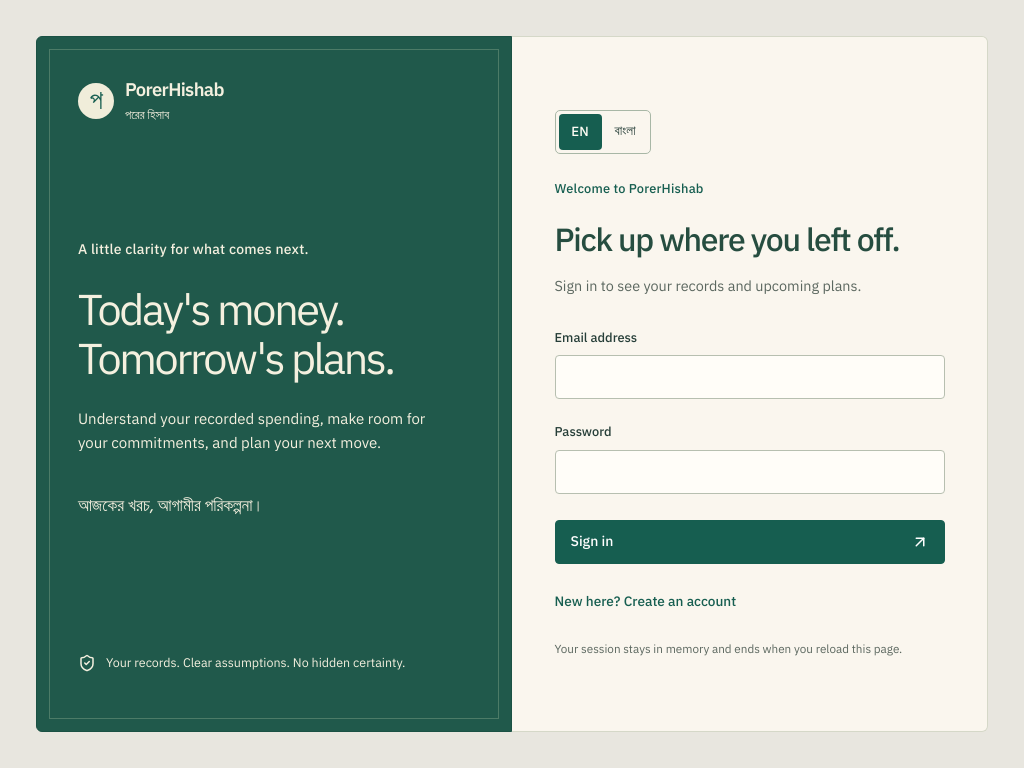
Test case: trustworthy financial experiences › shows a recoverable login failure and retains input
This screenshot has width=1024, height=768.
Step 1. Type "a@example.com" into the field labelled "Email address" → x=750, y=378, box [554, 356, 944, 400]
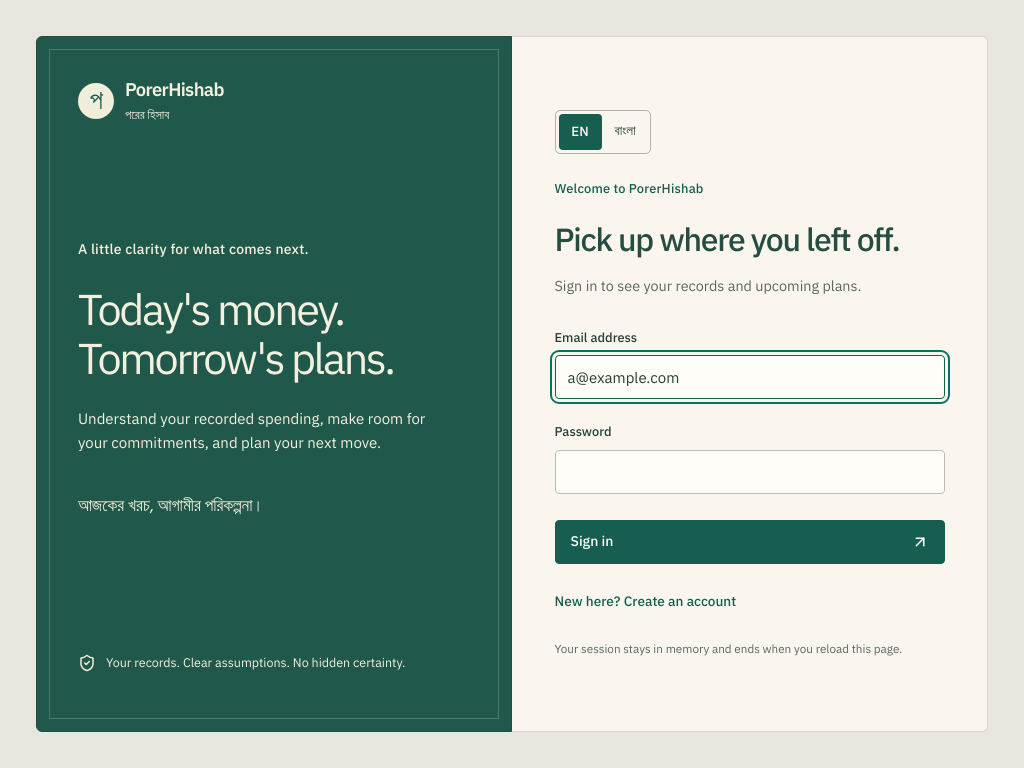
Step 2. Type "wrong" into the password field labelled "Password" → x=750, y=472, box [554, 450, 944, 494]
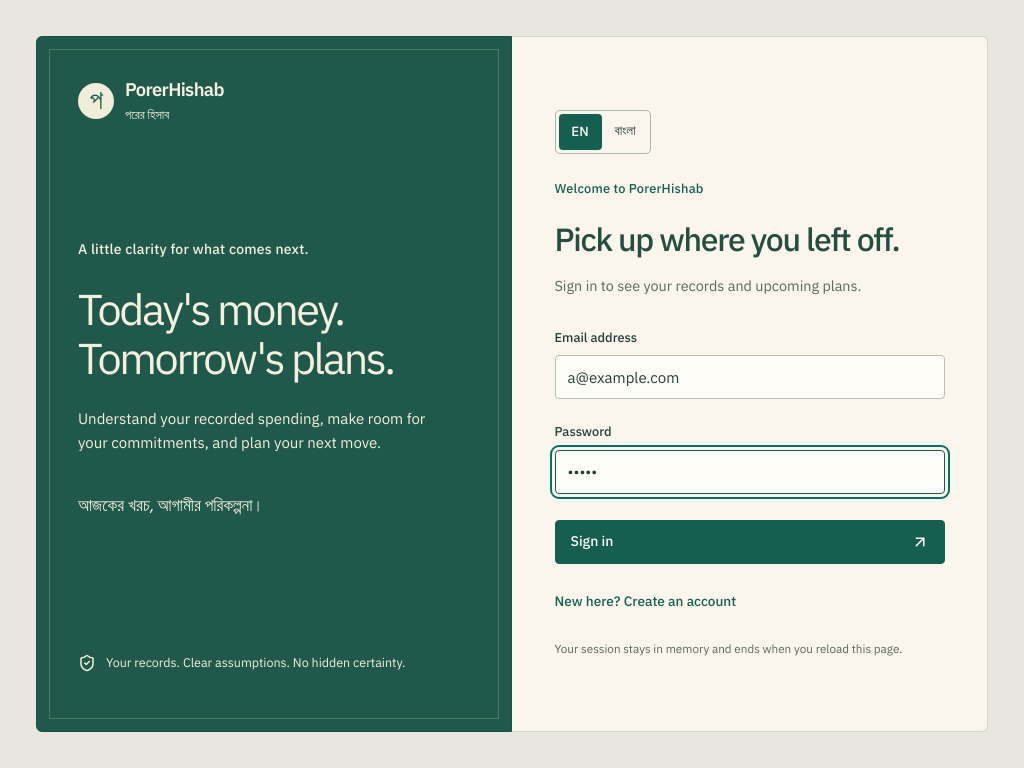
Step 3. Click the button "Sign in" → x=592, y=541, box [554, 520, 944, 564]
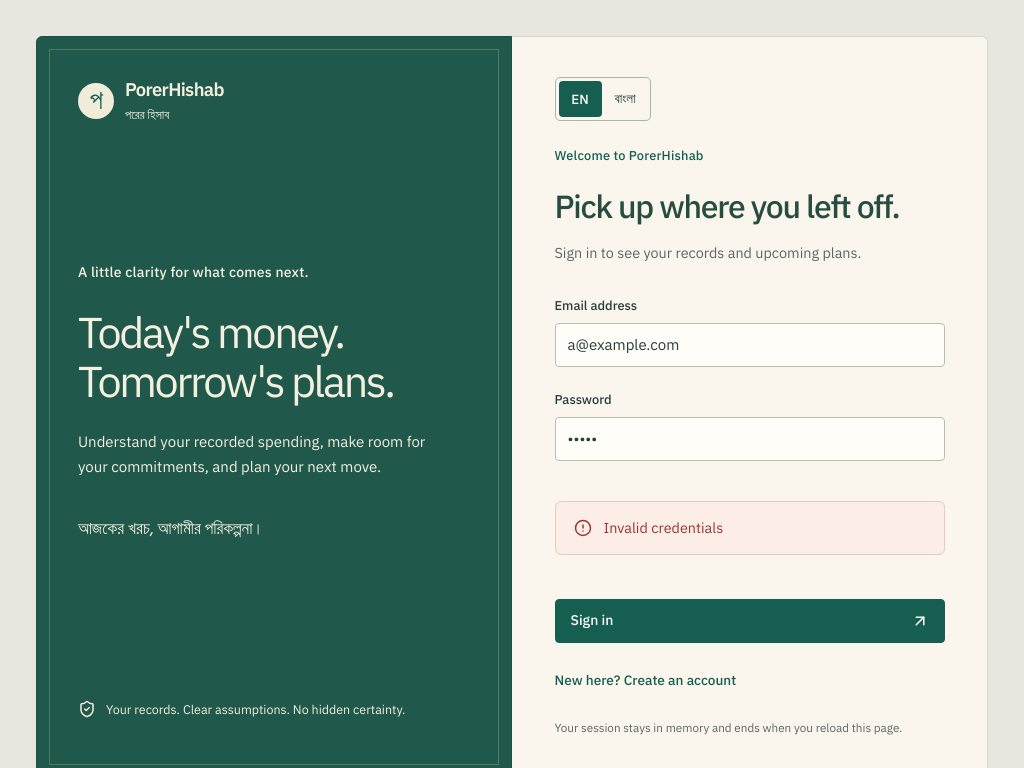
Expected: the message reads "Invalid credentials", [604, 518, 723, 537]
